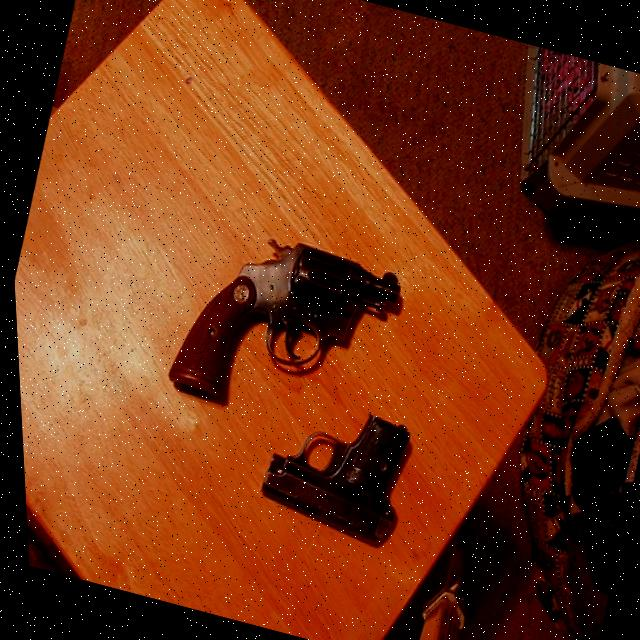pistol: (153, 214, 410, 446), (242, 389, 417, 552)
